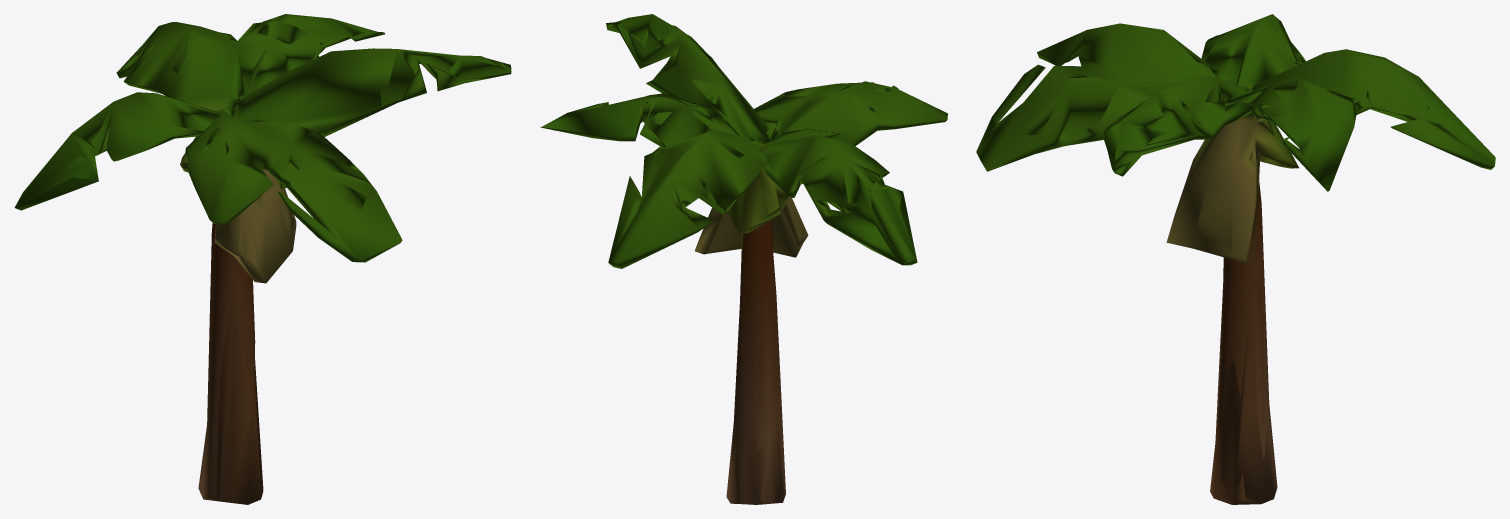
The model's file is gen3d-tropical-lod1.glb.
3 renders of one model, left to right at view 1: azimuth 30°, elevation 25°; view 2: azimuth 150°, elevation 25°; view 3: azimuth 270°, elevation 25°, orthographic. The views are drawn at different scales.
Visible parts, largest first — view 1: part_0; view 2: part_0; view 3: part_0.
Boxes of the visible parts, <box> form: part_0: <box>14,14,511,504</box>; part_0: <box>540,14,947,504</box>; part_0: <box>976,14,1495,504</box>.
Size of the model in its own units: 0.9793 by 0.998 by 1.01.
